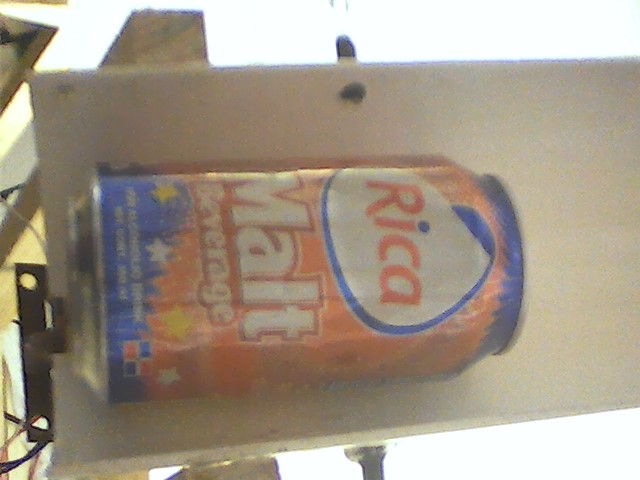lata: (59, 148, 542, 406)
